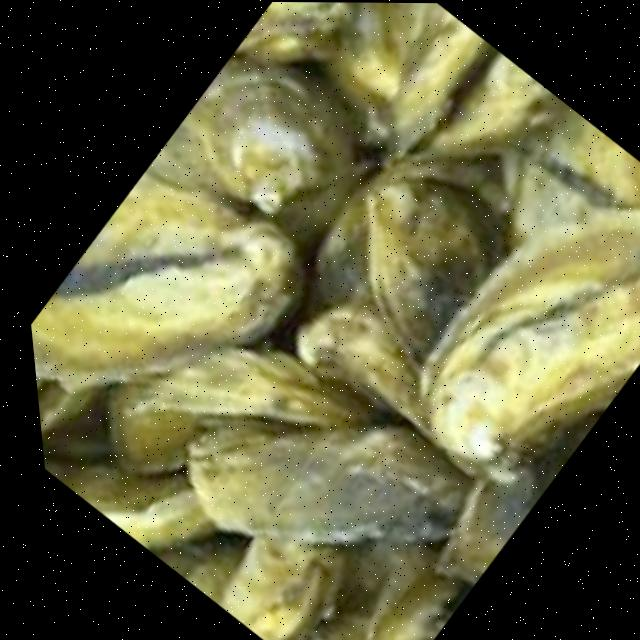Oyster-Closed: (36, 377, 92, 437)
Oyster-Indeterminate: (422, 210, 640, 483), (31, 168, 294, 386), (183, 420, 461, 544), (111, 353, 381, 475), (149, 54, 357, 209), (369, 162, 513, 373), (299, 307, 461, 465), (506, 113, 640, 253), (400, 52, 556, 165), (314, 537, 470, 640), (44, 458, 214, 551), (383, 17, 487, 154), (333, 3, 454, 113), (220, 543, 348, 640), (301, 177, 380, 325), (441, 476, 532, 583), (153, 524, 252, 604), (234, 2, 347, 64)
